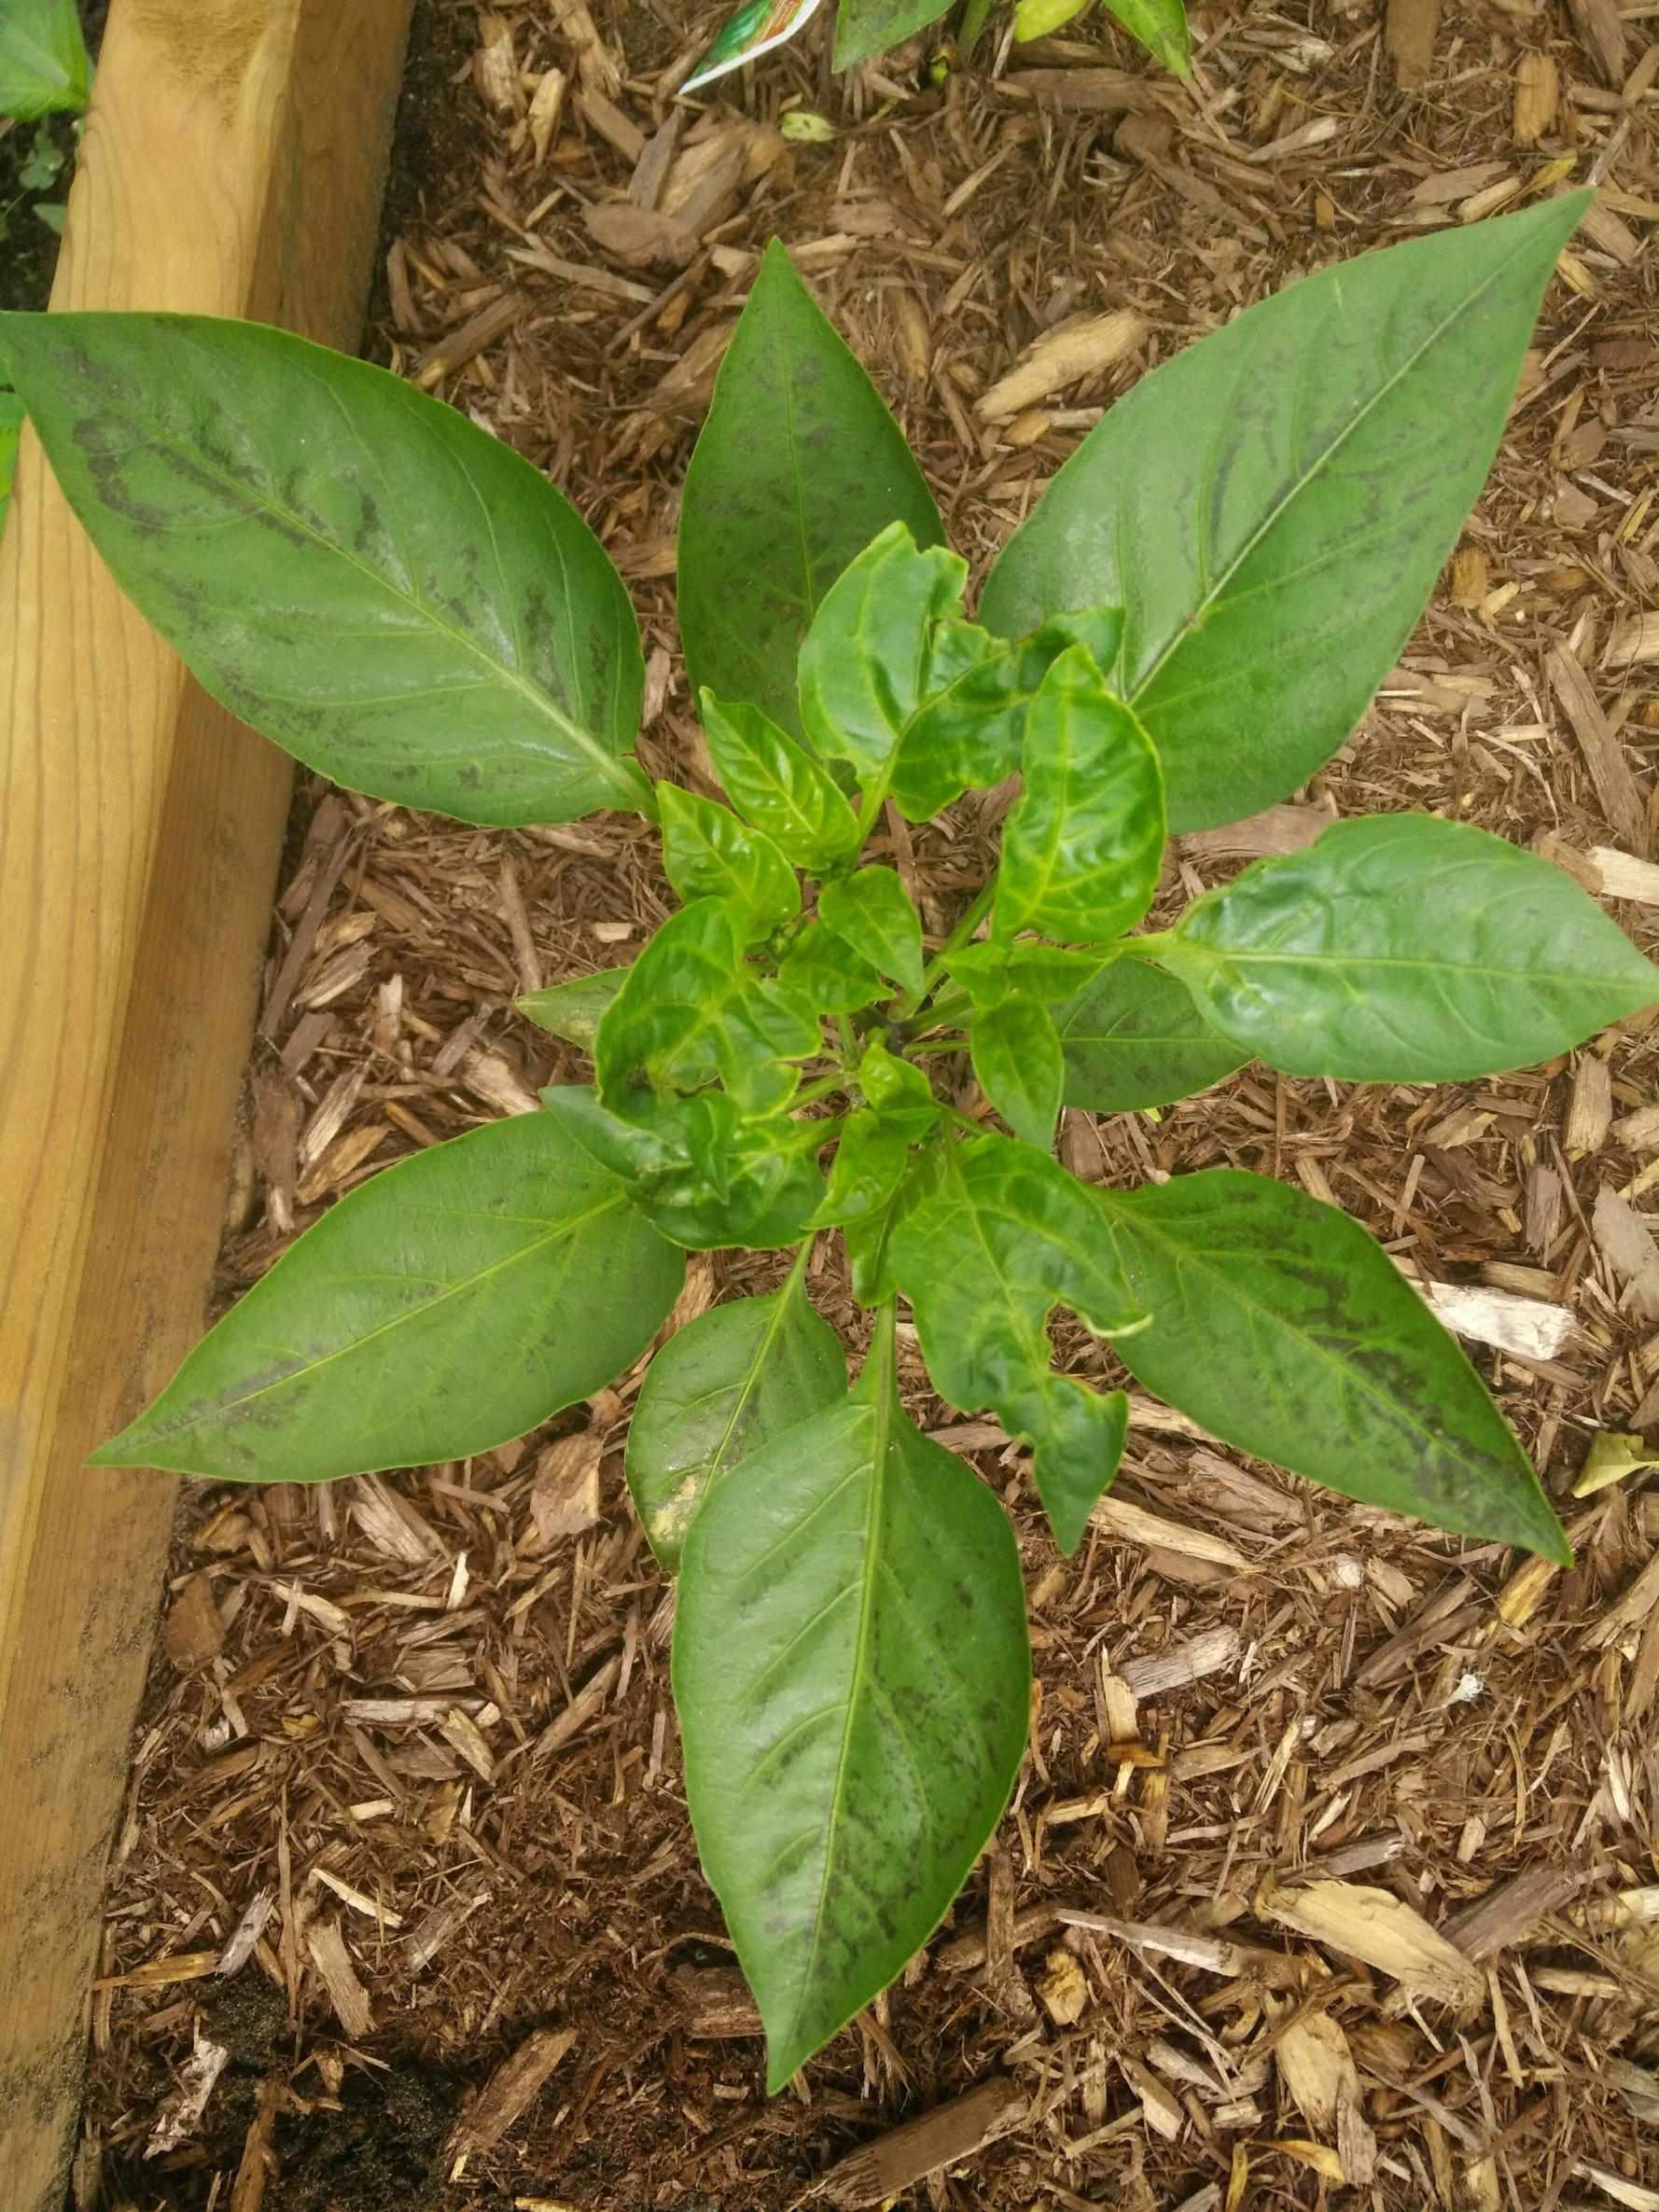Bell_pepper leaf spot: (1004, 185, 1584, 831), (9, 289, 673, 843), (680, 1402, 1061, 2057), (1049, 1151, 1577, 1566), (113, 1108, 702, 1463), (645, 237, 958, 726), (1154, 813, 1652, 1096)
